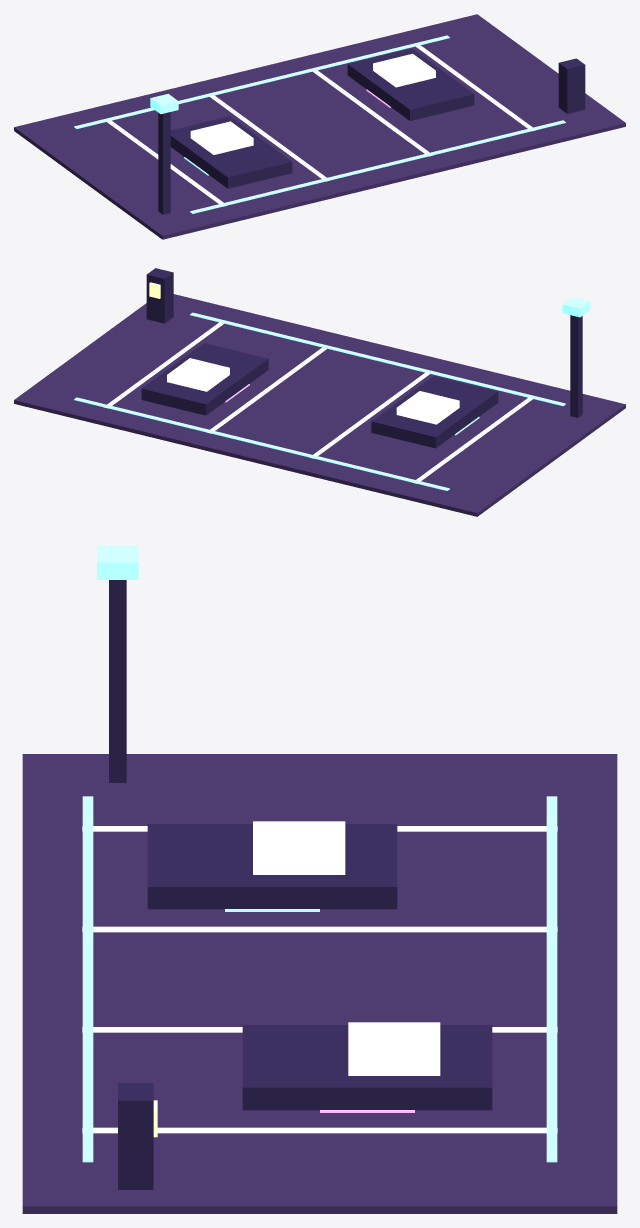
The model's file is 11_hovercar_parking_bay.glb.
The picture shows the model from 3 angles, top to bottom: view 1: azimuth 30°, elevation 25°; view 2: azimuth 150°, elevation 25°; view 3: azimuth 270°, elevation 25°; orthographic projection. The views are drawn at different scales.
Visible parts, largest first — view 1: lot_0, carB_body_12, carA_body_7, edge_6, ticket_machine_17, edge_5, carA_glass_8, carB_glass_13, lamp_post_19, line_2, line_3, line_4 (+2 smaller); view 2: lot_0, carA_body_7, carB_body_12, edge_6, edge_5, carA_glass_8, carB_glass_13, lamp_post_19, ticket_machine_17, line_1, line_2, line_3 (+2 smaller); view 3: lot_0, carB_body_12, carA_body_7, carA_glass_8, carB_glass_13, edge_5, edge_6, ticket_machine_17, lamp_post_19, line_2, line_4, lamp_head_20 (+2 smaller).
Part boxes in pixels (<box>): lot_0: <box>14,14,625,239</box>; carB_body_12: <box>347,48,474,120</box>; carA_body_7: <box>170,116,292,188</box>; edge_6: <box>190,120,565,213</box>; ticket_machine_17: <box>558,58,585,113</box>; edge_5: <box>74,35,449,128</box>; carA_glass_8: <box>190,121,253,154</box>; carB_glass_13: <box>373,53,435,87</box>; lamp_post_19: <box>158,112,170,214</box>; line_2: <box>209,95,330,181</box>; line_3: <box>312,70,433,156</box>; line_4: <box>415,45,535,131</box>; lot_0: <box>14,294,625,516</box>; carA_body_7: <box>371,376,498,448</box>; carB_body_12: <box>141,343,268,415</box>; edge_6: <box>190,312,565,405</box>; edge_5: <box>74,397,449,490</box>; carA_glass_8: <box>396,391,459,424</box>; carB_glass_13: <box>167,358,229,391</box>; lamp_post_19: <box>570,315,582,417</box>; ticket_machine_17: <box>146,268,173,323</box>; line_1: <box>412,397,533,483</box>; line_2: <box>309,372,430,458</box>; line_3: <box>206,347,327,433</box>; lot_0: <box>22,754,617,1213</box>; carB_body_12: <box>242,1025,492,1110</box>; carA_body_7: <box>147,824,397,909</box>; carA_glass_8: <box>253,821,345,874</box>; carB_glass_13: <box>348,1022,440,1075</box>; edge_5: <box>546,796,557,1162</box>; edge_6: <box>82,796,93,1162</box>; ticket_machine_17: <box>118,1083,153,1189</box>; lamp_post_19: <box>109,580,126,782</box>; line_2: <box>82,926,557,932</box>; line_4: <box>82,1127,557,1133</box>; lamp_head_20: <box>97,545,138,579</box>.
Bounding box in the file's own units: 18 × 4.32 × 10.
